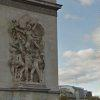Statue: (9, 9, 58, 94)
